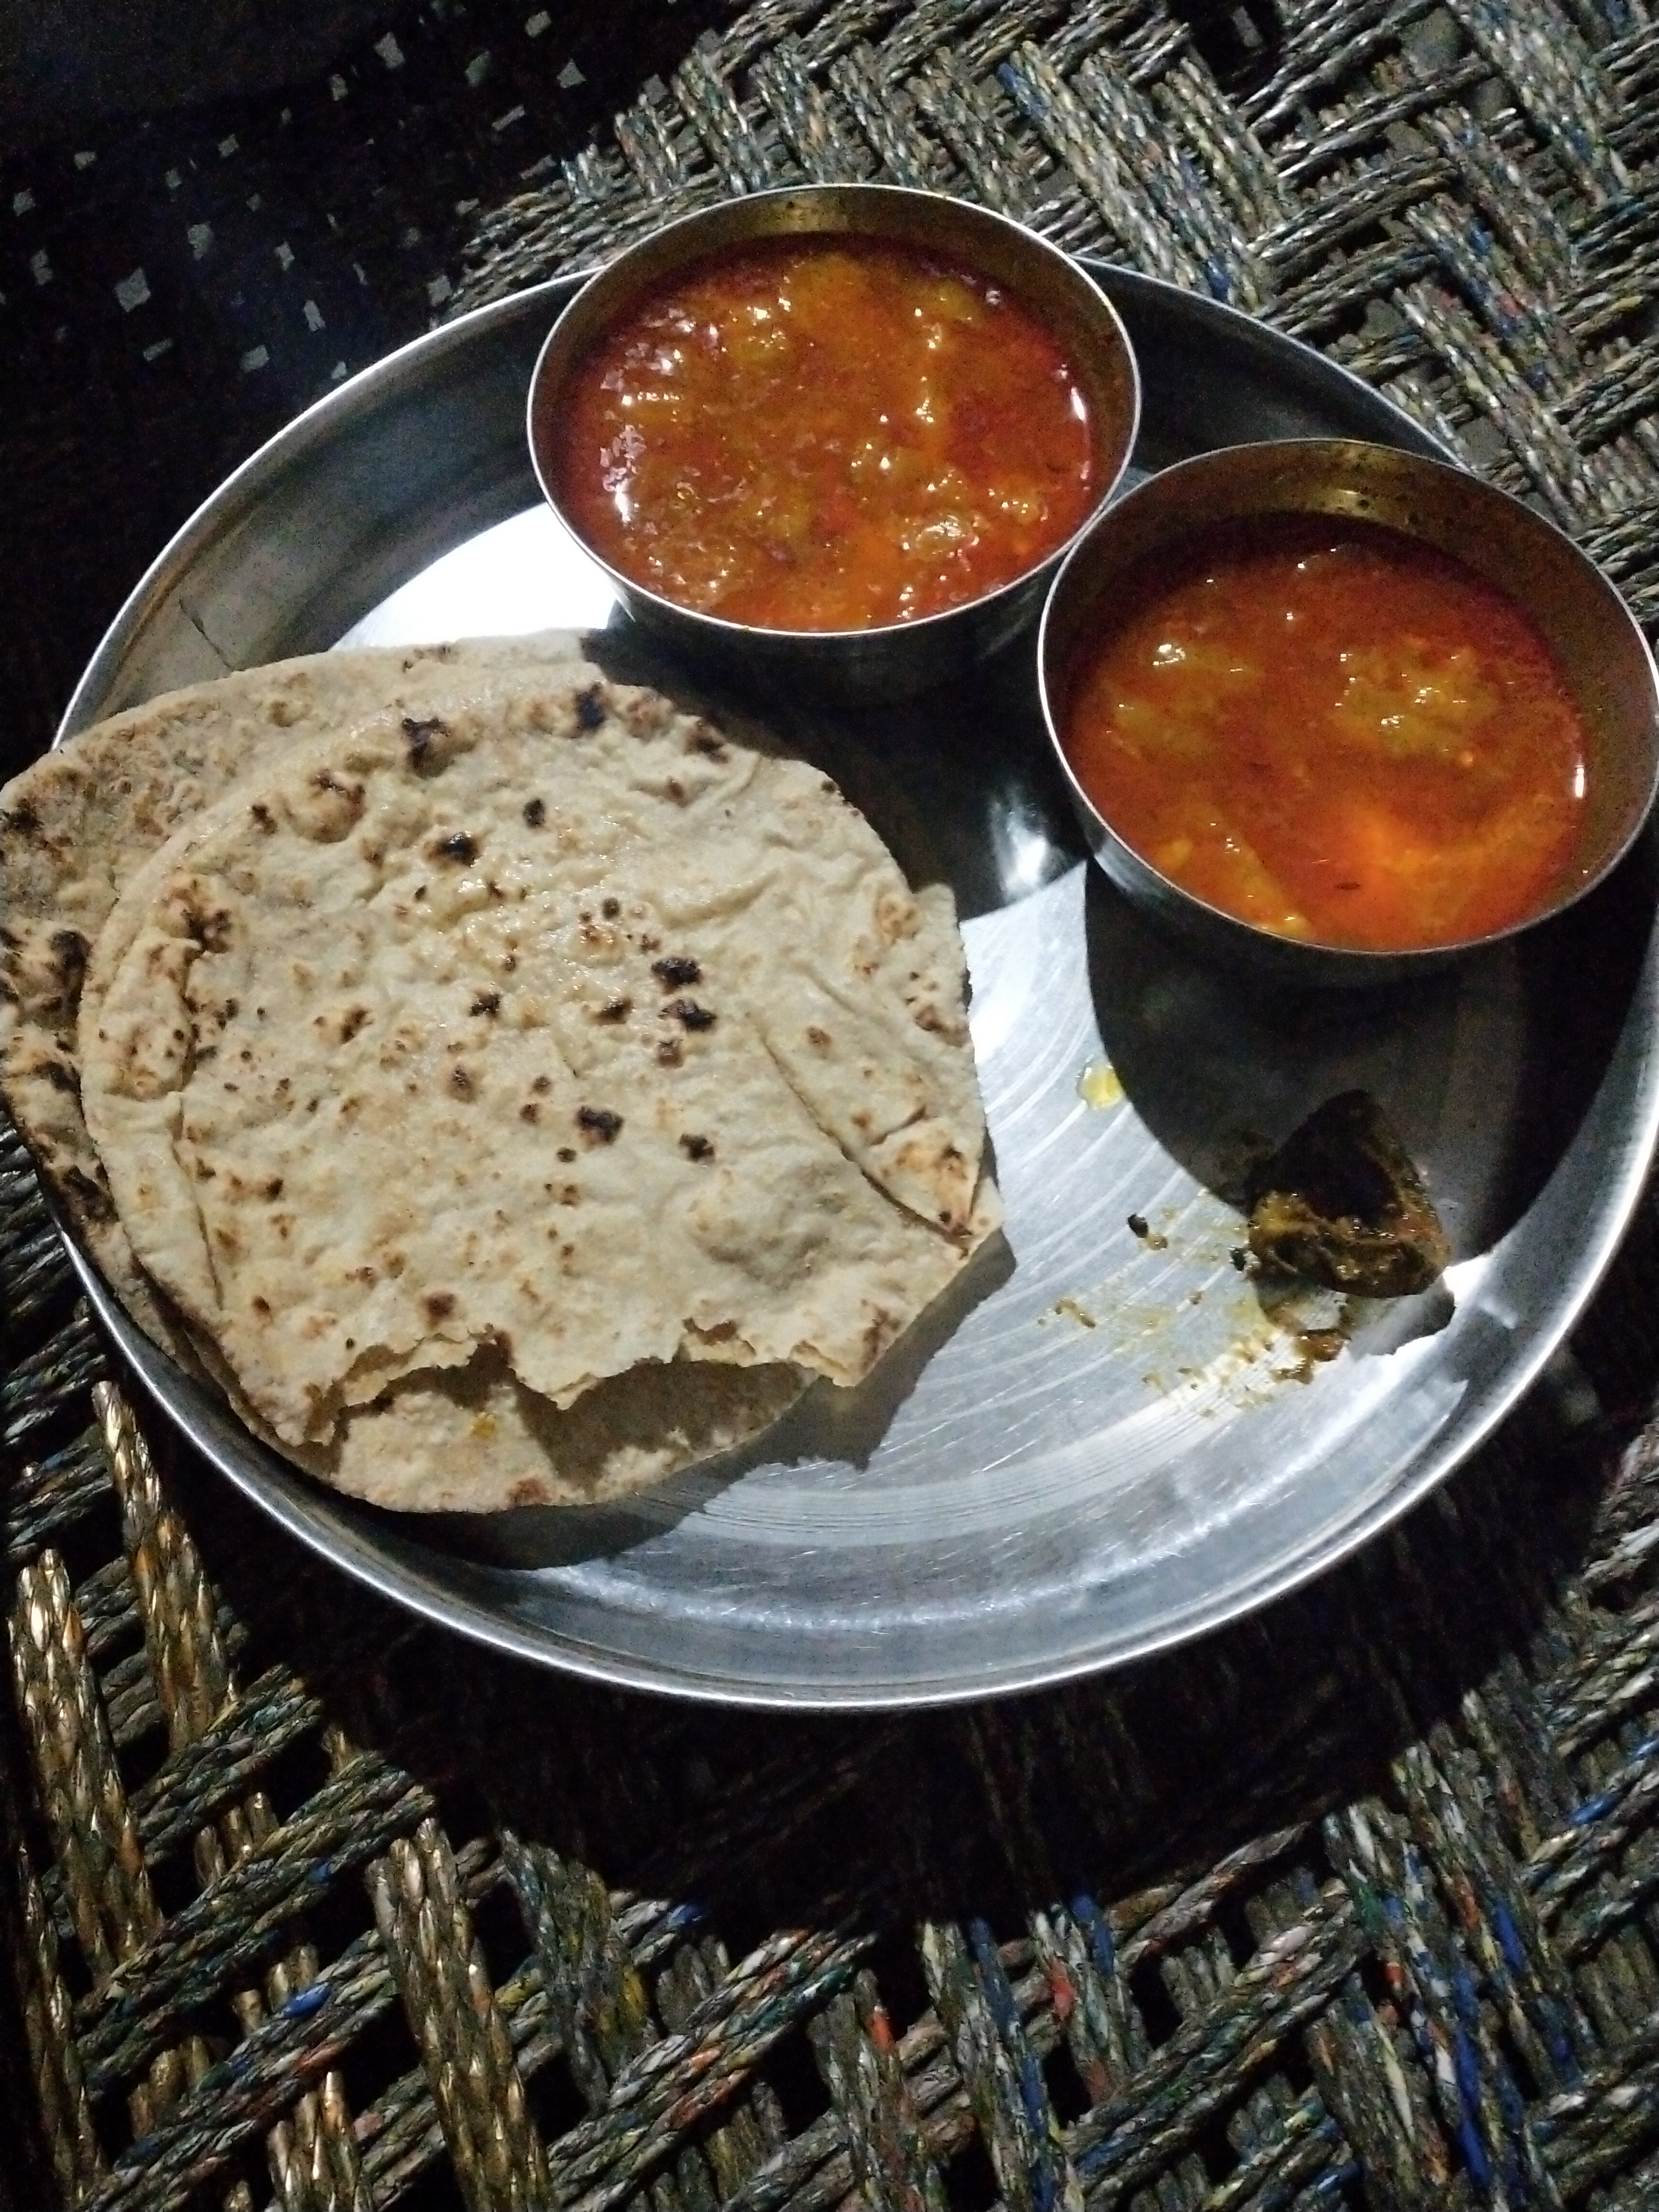food: (0, 165, 1659, 1534)
